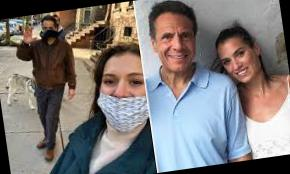mask_weared_incorrect: (95, 67, 151, 135)
with_mask: (40, 21, 59, 42)
without_mask: (156, 19, 198, 73), (221, 42, 259, 83)
